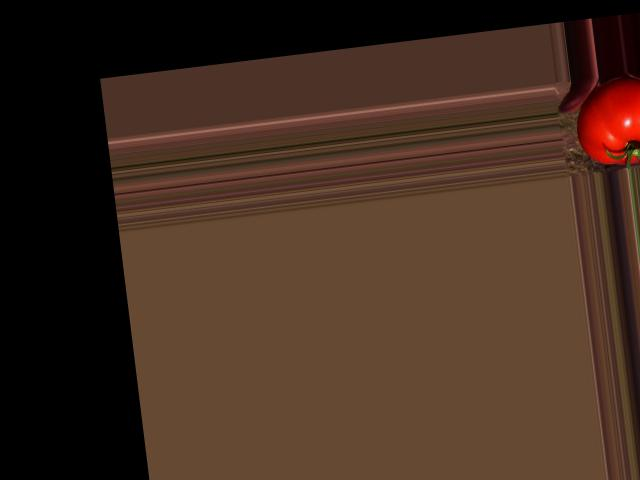tomato: (573, 71, 640, 169)
